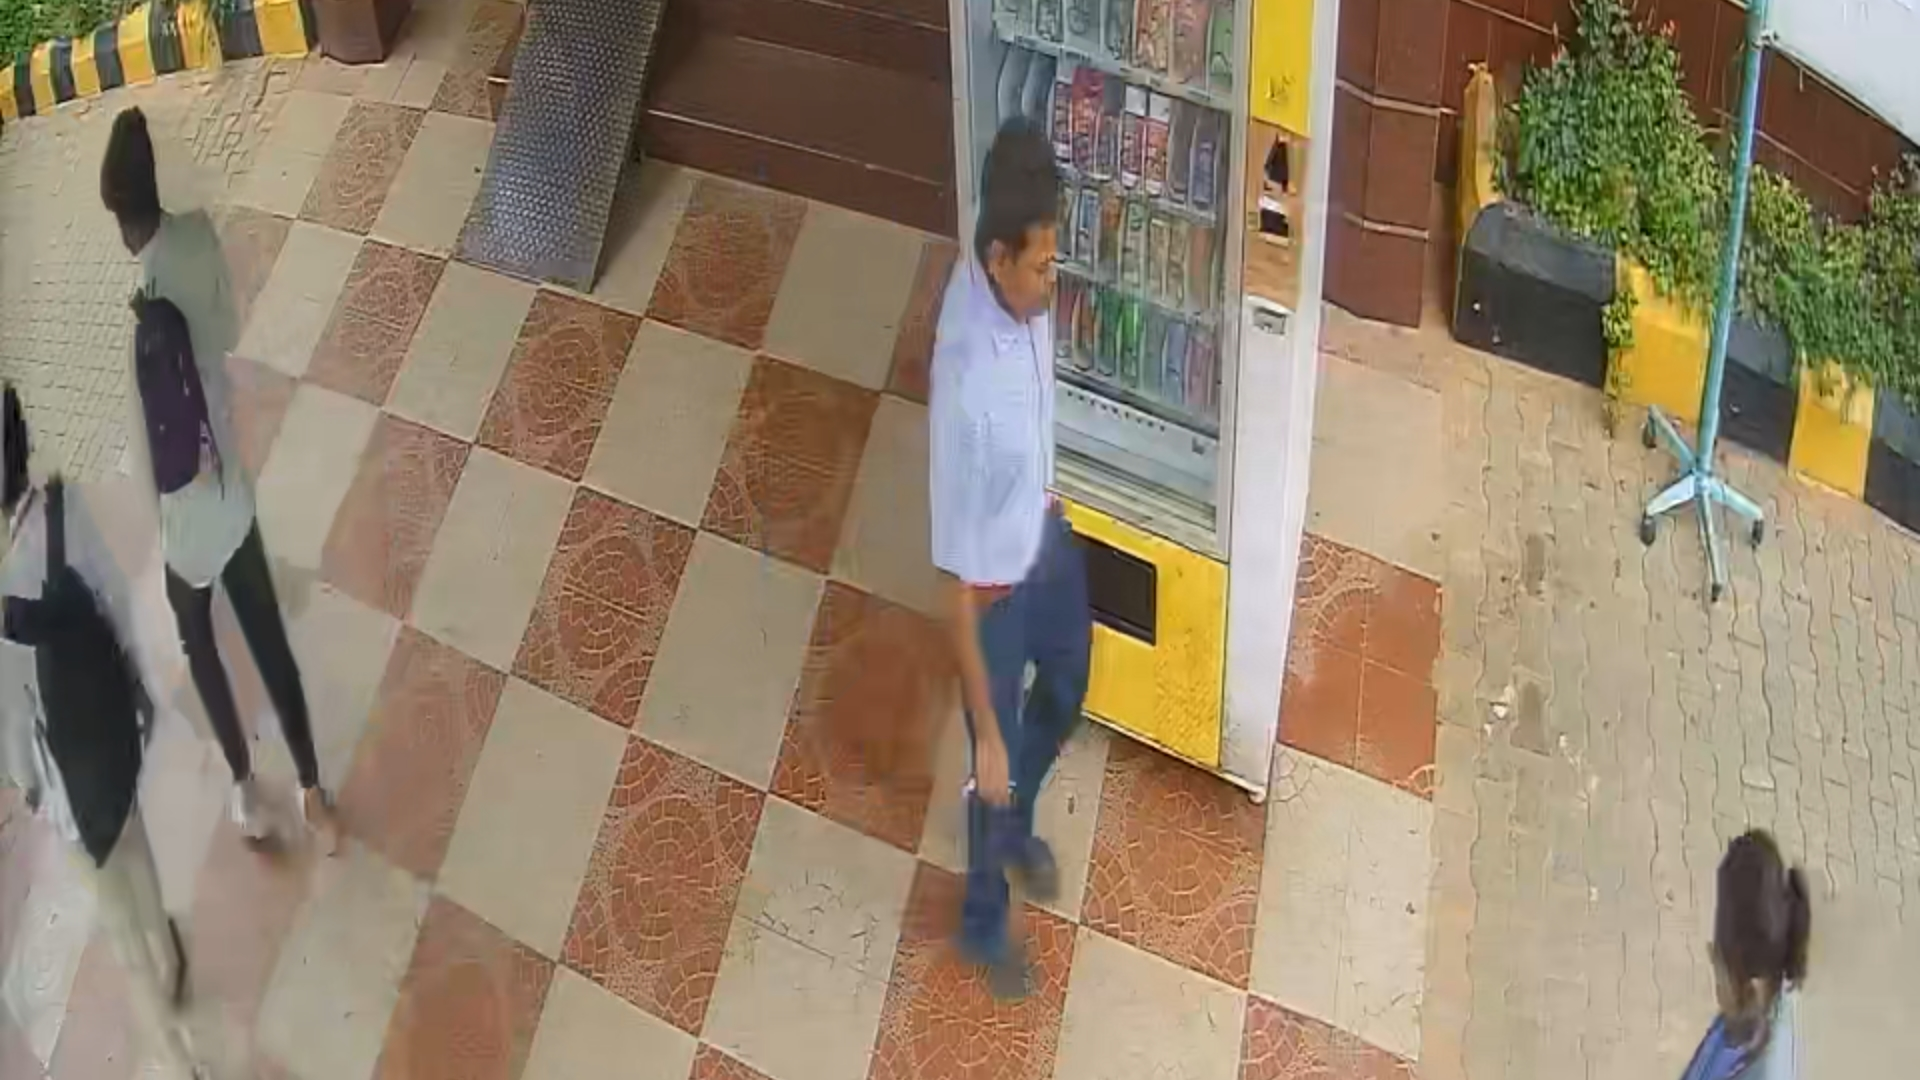intruder: (920, 103, 1108, 944)
